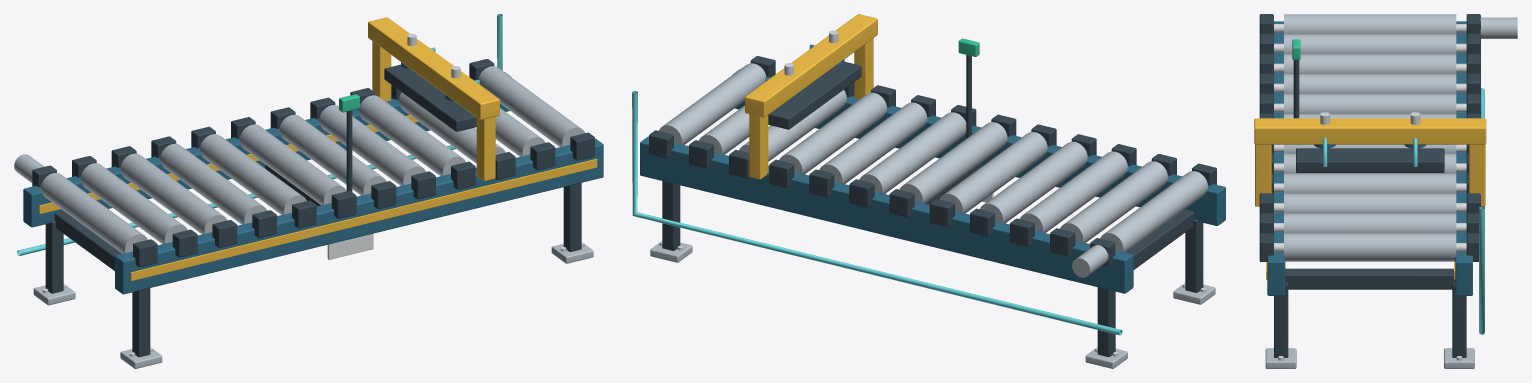
File: Equipment_RT.fbx
3 renders of one model, left to right at view 1: azimuth 30°, elevation 25°; view 2: azimuth 150°, elevation 25°; view 3: azimuth 270°, elevation 25°, orthographic. The views are drawn at different scales.
Visible parts, largest first — view 1: SideFrame, SideSafetyStripe, ClampBridge, RollerShell.002, RollerShell.003, RollerShell.005, RollerShell.004, RollerShell.001, RollerShell, RollerShell.008, RollerShell.011, RollerShell.006 (+31 smaller); view 2: SideFrame.001, ClampBridge, HydraulicFeed, SideFrame, RollerShell.005, RollerShell.006, RollerShell.001, RollerShell.002, RollerShell.007, RollerShell.003, RollerShell.004, RollerShell.008 (+27 smaller); view 3: ClampBridge, RollerShell.011, CrossBeam.002, RollerShell.008, RollerShell.010, RollerShell.009, ClampJaw, RollerShell, RollerShell.001, RollerShell.003, RollerShell.002, RollerShell.004 (+30 smaller).
Boxes of the visible parts, bbox=[...] form: SideFrame: bbox=[115, 138, 603, 294]; SideSafetyStripe: bbox=[130, 158, 597, 280]; ClampBridge: bbox=[368, 17, 499, 119]; RollerShell.002: bbox=[120, 153, 227, 234]; RollerShell.003: bbox=[160, 143, 266, 224]; RollerShell.005: bbox=[239, 124, 346, 205]; RollerShell.004: bbox=[200, 134, 306, 214]; RollerShell.001: bbox=[80, 163, 187, 243]; RollerShell: bbox=[41, 173, 147, 253]; RollerShell.008: bbox=[359, 95, 465, 176]; RollerShell.011: bbox=[478, 66, 584, 146]; RollerShell.006: bbox=[279, 114, 386, 195]; SideFrame.001: bbox=[640, 136, 1133, 293]; ClampBridge: bbox=[745, 14, 877, 117]; HydraulicFeed: bbox=[632, 91, 1122, 335]; SideFrame: bbox=[732, 69, 1225, 225]; RollerShell.005: bbox=[899, 122, 1007, 203]; RollerShell.006: bbox=[859, 112, 966, 193]; RollerShell.001: bbox=[1060, 161, 1167, 242]; RollerShell.002: bbox=[1020, 151, 1127, 232]; RollerShell.007: bbox=[819, 102, 927, 183]; RollerShell.003: bbox=[980, 141, 1087, 223]; RollerShell.004: bbox=[939, 131, 1047, 213]; RollerShell.008: bbox=[779, 92, 886, 174]; ClampBridge: bbox=[1254, 118, 1486, 144]; RollerShell.011: bbox=[1284, 233, 1456, 261]; CrossBeam.002: bbox=[1285, 268, 1455, 289]; RollerShell.008: bbox=[1284, 173, 1456, 193]; RollerShell.010: bbox=[1284, 213, 1456, 233]; RollerShell.009: bbox=[1284, 193, 1456, 213]; ClampJaw: bbox=[1296, 148, 1444, 172]; RollerShell: bbox=[1284, 14, 1456, 33]; RollerShell.001: bbox=[1284, 34, 1456, 53]; RollerShell.003: bbox=[1284, 74, 1456, 93]; RollerShell.002: bbox=[1284, 54, 1456, 73]; RollerShell.004: bbox=[1284, 94, 1456, 113].
Size of the model in its own units: 4.83 by 1.96 by 2.21.
